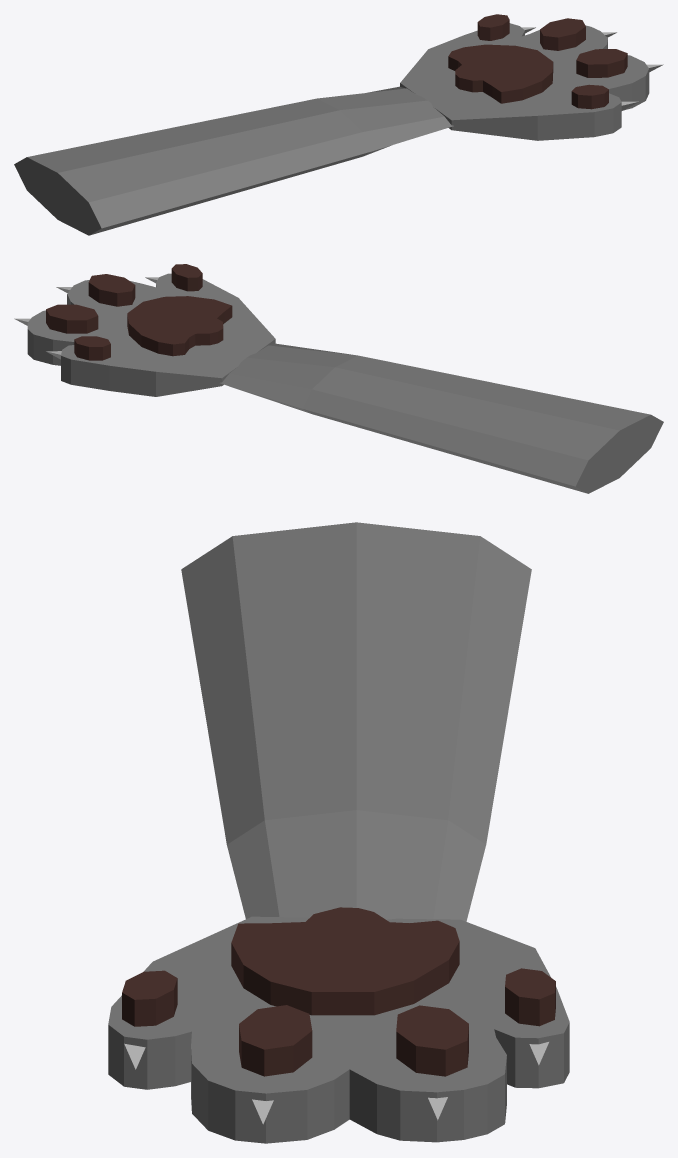
The model's file is lapka1.fbx.
3 renders of one model, top to bottom at view 1: azimuth 30°, elevation 25°; view 2: azimuth 150°, elevation 25°; view 3: azimuth 270°, elevation 25°, orthographic. The views are drawn at different scales.
Parts seen in each view (by area): view 1: Circle.027; view 2: Circle.027; view 3: Circle.027.
Boxes of the visible parts, box(x1,y1,x2,y2) form: Circle.027: box(14, 14, 663, 235); Circle.027: box(14, 264, 663, 493); Circle.027: box(108, 522, 569, 1143).
Size of the model in its own units: 67.17 by 5.53 by 23.03.
